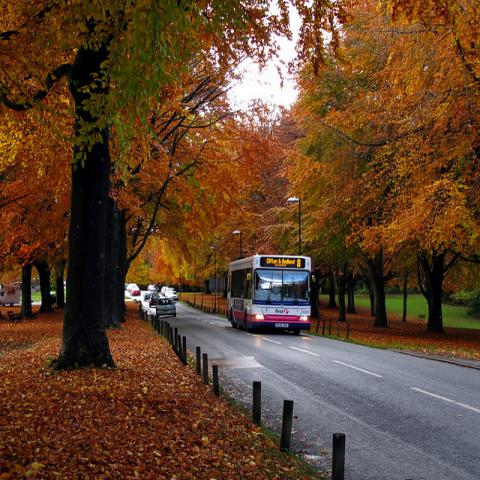bus: (226, 254, 310, 337)
car: (153, 299, 176, 318), (149, 292, 160, 308), (126, 283, 139, 292), (168, 291, 178, 301), (165, 288, 176, 297), (143, 292, 152, 302), (130, 287, 140, 296), (148, 285, 159, 292), (161, 287, 168, 296), (125, 284, 128, 290)
